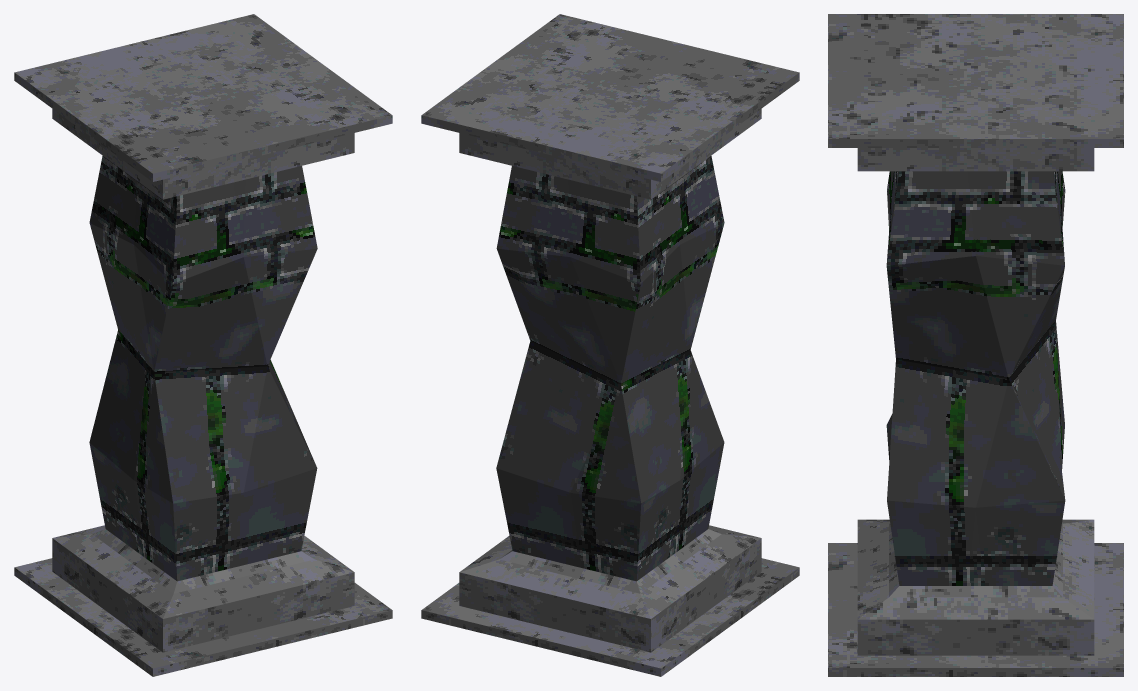
The model's file is pillar_05.gltf.
The picture shows the model from 3 angles, left to right: view 1: azimuth 30°, elevation 25°; view 2: azimuth 150°, elevation 25°; view 3: azimuth 270°, elevation 25°; orthographic projection. The views are drawn at different scales.
Parts seen in each view (by area): view 1: pillar_05; view 2: pillar_05; view 3: pillar_05.
Boxes of the visible parts, <box> form: pillar_05: <box>14,14,392,676</box>; pillar_05: <box>421,14,799,676</box>; pillar_05: <box>828,14,1123,676</box>.
Bounding box in the file's own units: 1.5 × 3.01 × 1.5.
1 material, 1 textured.
